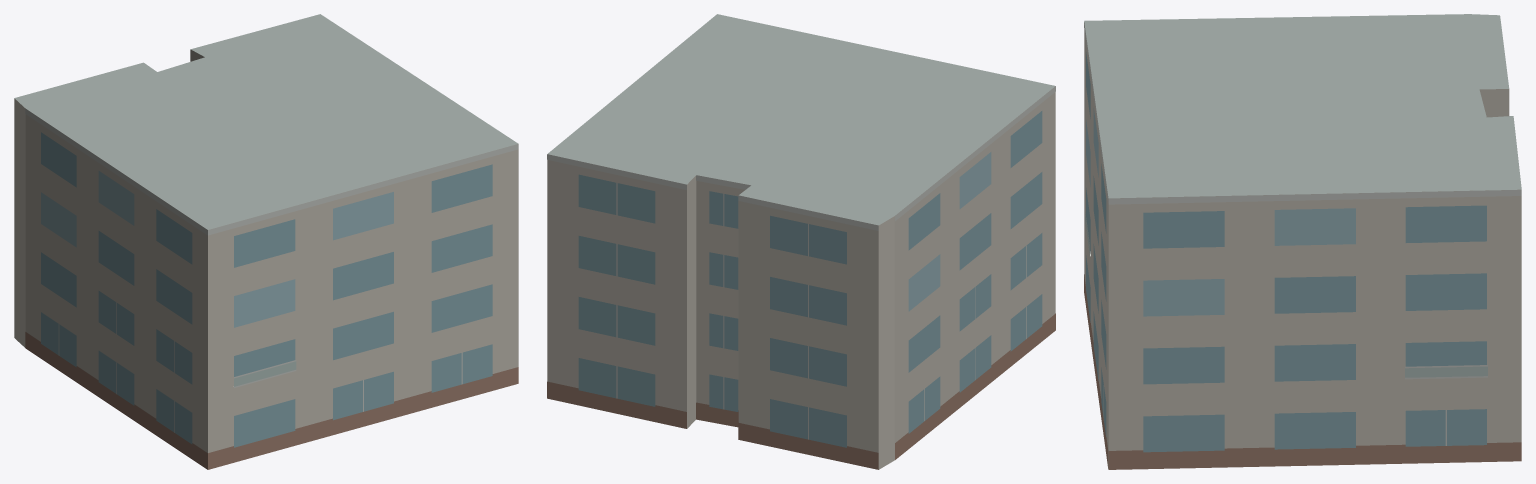
The model's file is survey-upis-32804168.glb.
3 views of the same model, side by side, from view 1: azimuth 30°, elevation 25°; view 2: azimuth 150°, elevation 25°; view 3: azimuth 270°, elevation 25° (orthographic). The views are drawn at different scales.
Parts seen in each view (by area): view 1: survey-upis-32804168.tmp; view 2: survey-upis-32804168.tmp; view 3: survey-upis-32804168.tmp.
Part boxes in pixels (box(x1,y1,x2,y2)): survey-upis-32804168.tmp: box(14, 14, 518, 469); survey-upis-32804168.tmp: box(547, 14, 1055, 469); survey-upis-32804168.tmp: box(1084, 14, 1521, 469).
Bounding box in the file's own units: 15.45 × 10.6 × 15.5.
